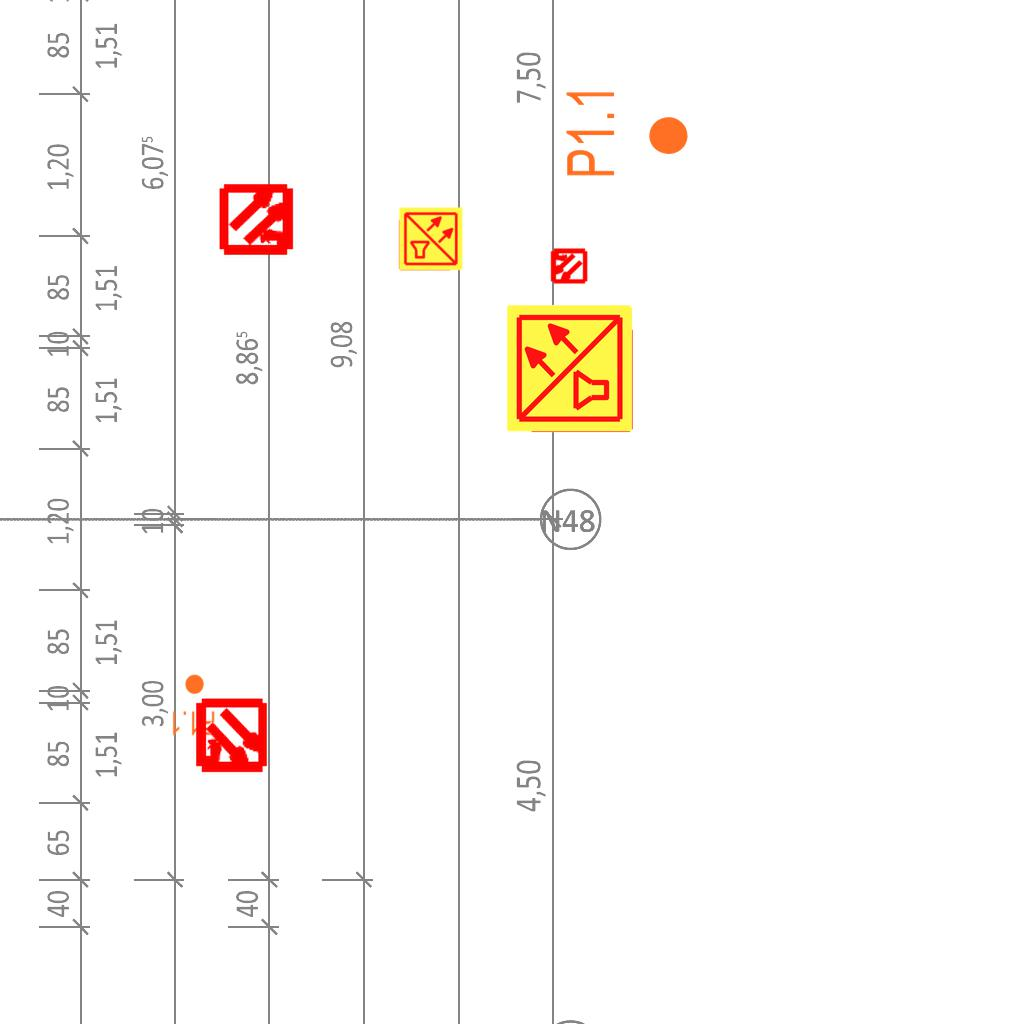Downlight_LED_Einbauleuchten_Flur: (563, 86, 691, 179), (170, 673, 216, 737)
OKW_Multisensormelder_(Kombination_optischer_Rauch-Kahlenmonoxid_Waerme-Melder): (504, 302, 636, 434), (398, 206, 464, 272)
OT_Multisensormelder_(Kombination_RMO_WMD): (202, 163, 315, 276), (175, 681, 288, 794), (540, 238, 596, 294)
